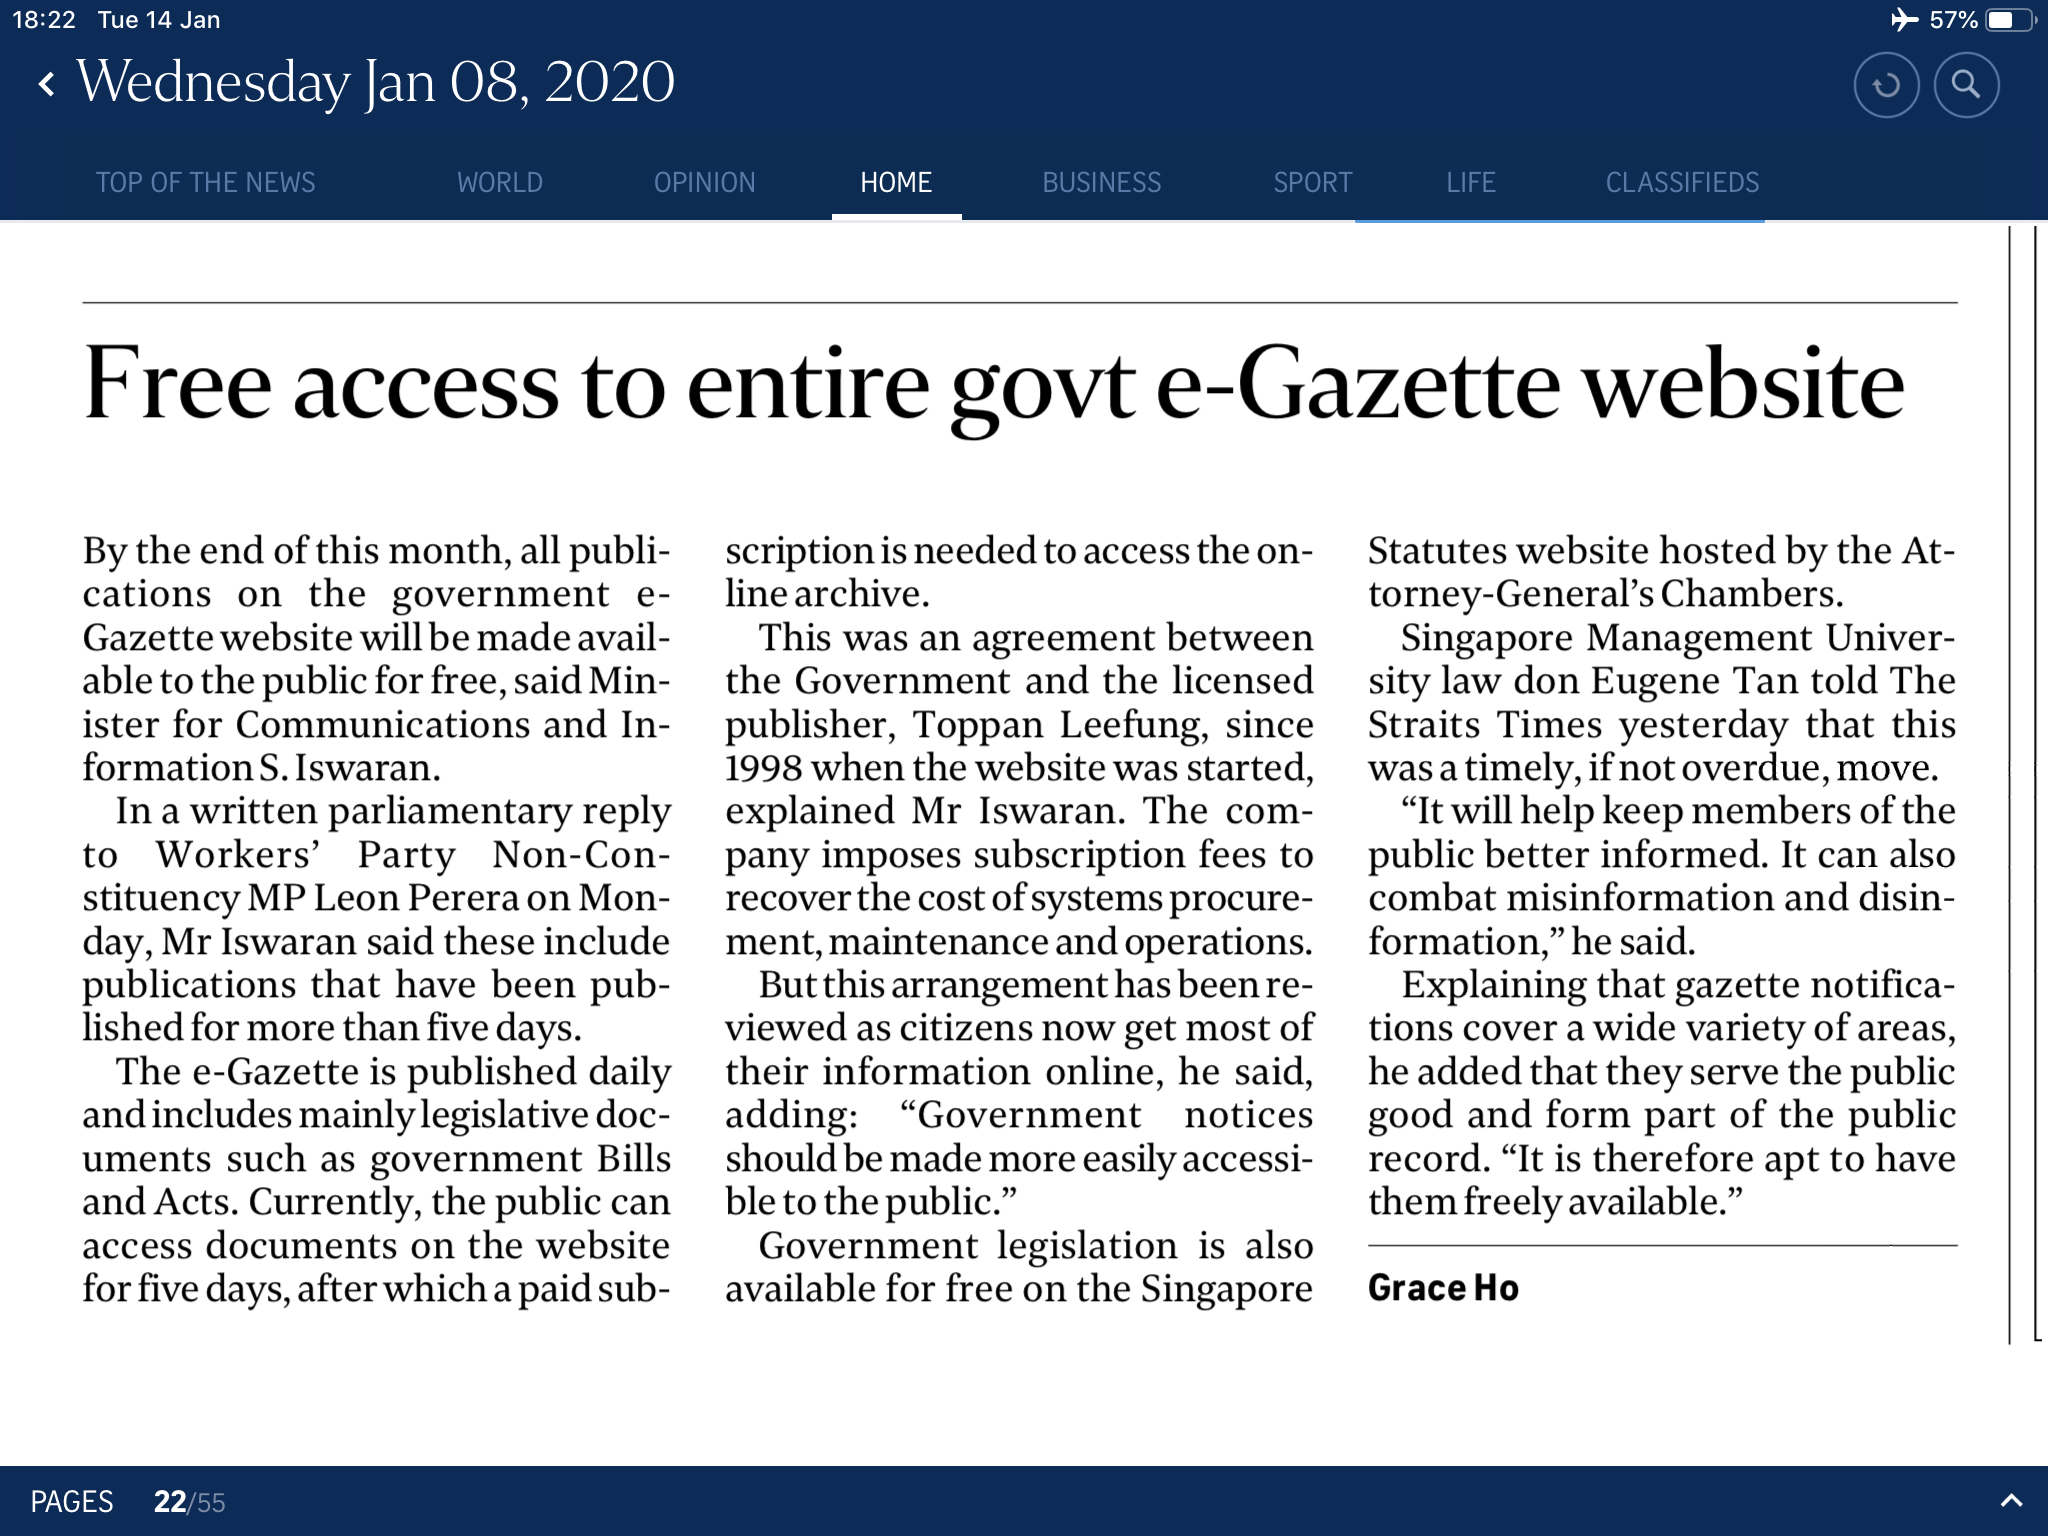Byline: (1371, 1267, 1522, 1305)
Headline: (82, 337, 1909, 444)
Text: (81, 529, 676, 1312), (724, 531, 1317, 1313), (1364, 529, 1959, 1225)
